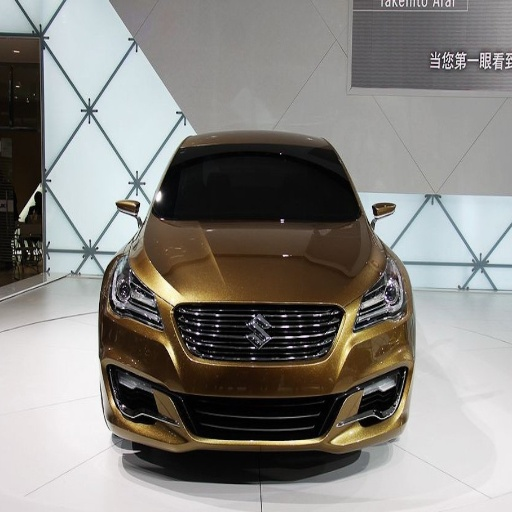front_bumper: (99, 295, 408, 452)
front_right_light: (105, 255, 162, 327)
hood: (137, 216, 386, 305)
